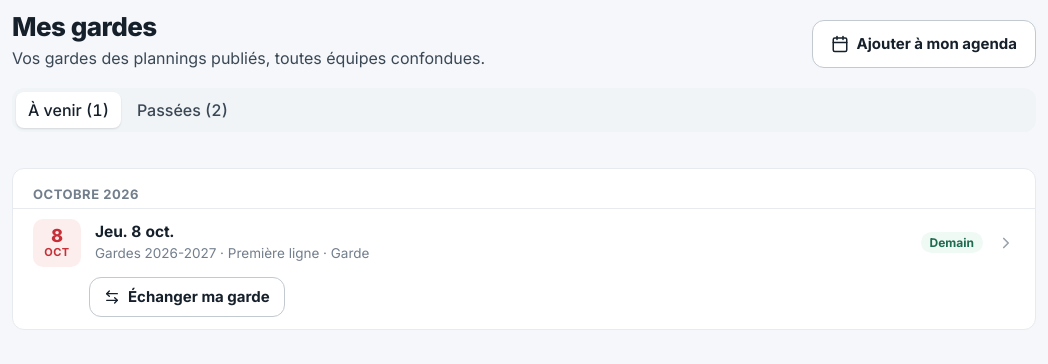
Test: MyDutiesPage › shows past duties on demand, latest first, without a countdown
Click the button "Passées (2)": (182, 110) [125, 92, 240, 128]
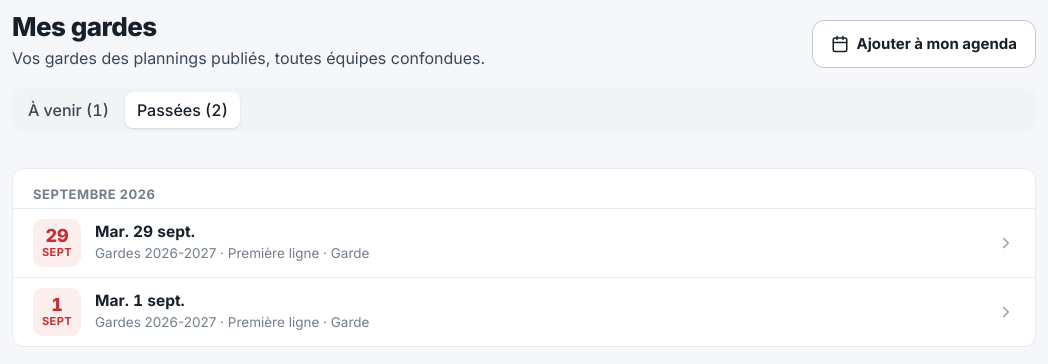
Check: the number of links is 2, box [13, 208, 1035, 277]; [13, 277, 1035, 346]
Check: the 1st link shows "Mar. 29 sept.", box [13, 208, 1035, 277]
Check: the 2nd link shows "Mar. 1 sept.", box [13, 277, 1035, 346]
